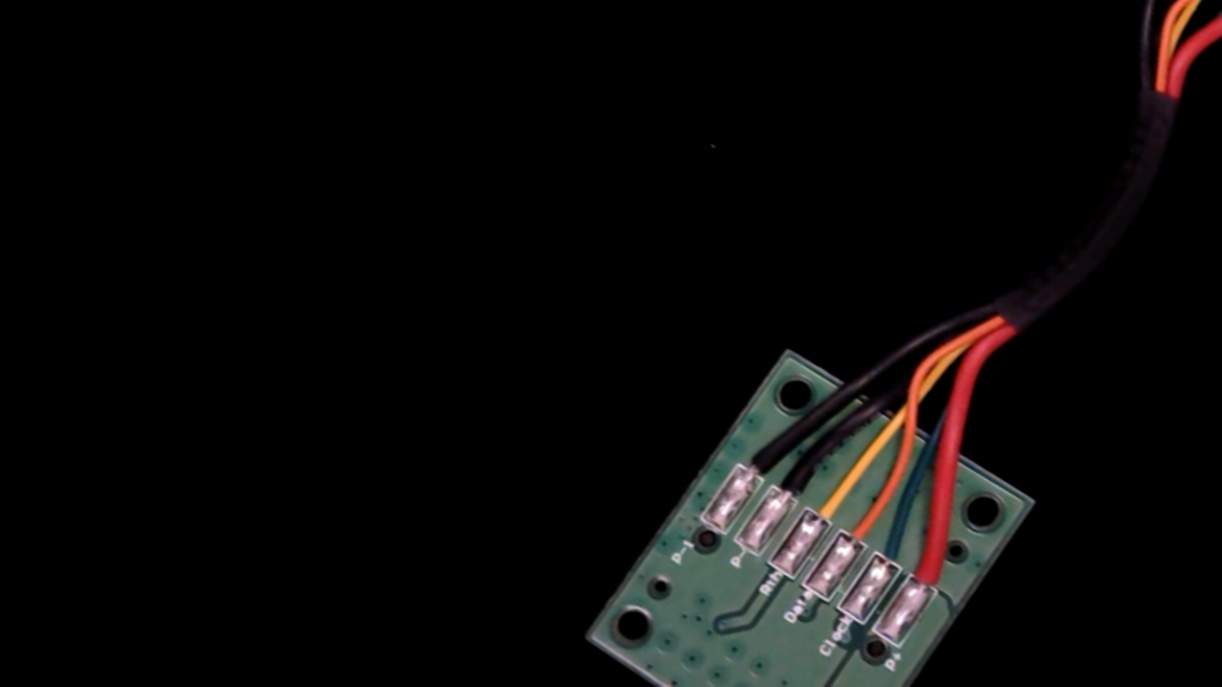Black: (755, 442, 831, 525)
Black1: (722, 425, 795, 502)
Green: (857, 510, 931, 591)
Orange: (825, 486, 898, 568)
Red: (893, 533, 968, 616)
Yellow: (789, 463, 866, 547)
